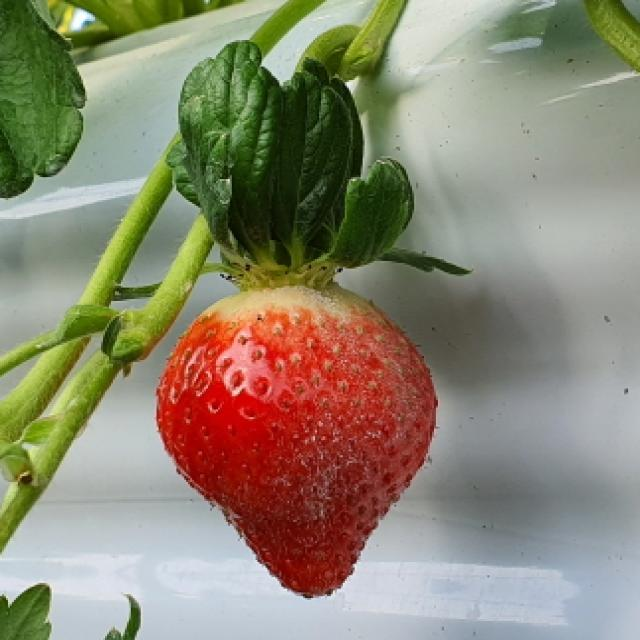Powdery Mildew Fruit: (272, 286, 442, 558)
